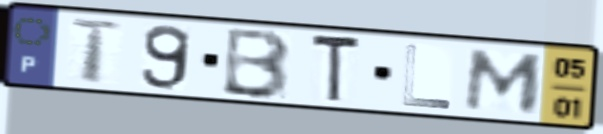9: (138, 23, 194, 91)
B: (218, 26, 294, 102)
L: (399, 41, 454, 112)
M: (460, 47, 548, 115)
T: (66, 16, 127, 86), (309, 31, 365, 106)
